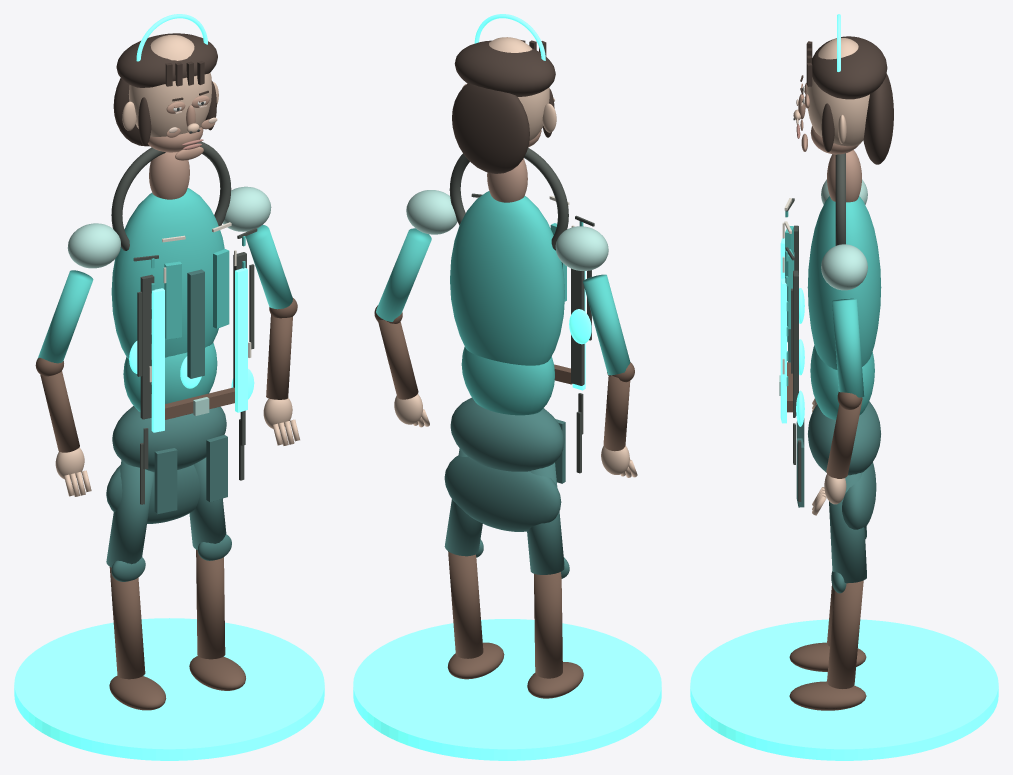
The model's file is jade-trickster.glb.
The picture shows the model from 3 angles, left to right: view 1: azimuth 30°, elevation 25°; view 2: azimuth 150°, elevation 25°; view 3: azimuth 270°, elevation 25°; orthographic projection.
Visible parts, largest first — view 1: jade-trickster_table_scale_base, jade-trickster_ribcage, jade-trickster_pelvis, jade-trickster_head, jade-trickster_left_thigh, jade-trickster_right_shin, jade-trickster_left_shin, jade-trickster_hair_cap, jade-trickster_left_upper_arm, jade-trickster_raised_collar, jade-trickster_abdomen, jade-trickster_right_upper_arm (+25 smaller); view 2: jade-trickster_table_scale_base, jade-trickster_ribcage, jade-trickster_coat_tail, jade-trickster_pelvis, jade-trickster_back_hair_mass, jade-trickster_abdomen, jade-trickster_hair_cap, jade-trickster_right_shin, jade-trickster_left_shin, jade-trickster_left_upper_arm, jade-trickster_right_upper_arm, jade-trickster_left_thigh (+15 smaller); view 3: jade-trickster_table_scale_base, jade-trickster_ribcage, jade-trickster_hair_cap, jade-trickster_right_shin, jade-trickster_head, jade-trickster_pelvis, jade-trickster_right_upper_arm, jade-trickster_right_thigh, jade-trickster_back_hair_mass, jade-trickster_abdomen, jade-trickster_right_shoulder, jade-trickster_right_boot (+8 smaller).
Boxes of the visible parts, x1,y1,x2,y2 form: jade-trickster_table_scale_base: (14, 618, 324, 760); jade-trickster_ribcage: (111, 188, 224, 359); jade-trickster_pelvis: (112, 406, 226, 472); jade-trickster_head: (128, 35, 211, 136); jade-trickster_left_thigh: (106, 460, 154, 567); jade-trickster_right_shin: (196, 549, 225, 659); jade-trickster_left_shin: (109, 567, 145, 679); jade-trickster_hair_cap: (116, 33, 217, 87); jade-trickster_left_upper_arm: (37, 270, 93, 363); jade-trickster_raised_collar: (111, 141, 231, 250); jade-trickster_abdomen: (123, 342, 217, 411); jade-trickster_right_upper_arm: (245, 225, 292, 309); jade-trickster_table_scale_base: (353, 619, 661, 760); jade-trickster_ribcage: (450, 191, 564, 365); jade-trickster_coat_tail: (444, 455, 561, 531); jade-trickster_pelvis: (450, 397, 564, 471); jade-trickster_back_hair_mass: (452, 83, 529, 173); jade-trickster_abdomen: (461, 347, 554, 415); jade-trickster_hair_cap: (454, 40, 555, 96); jade-trickster_right_shin: (448, 551, 483, 658); jade-trickster_left_shin: (534, 572, 562, 678); jade-trickster_left_upper_arm: (583, 274, 630, 375); jade-trickster_right_upper_arm: (376, 228, 431, 321); jade-trickster_left_thigh: (527, 462, 564, 574); jade-trickster_table_scale_base: (690, 619, 998, 760); jade-trickster_ribcage: (807, 196, 881, 369); jade-trickster_hair_cap: (812, 36, 887, 99); jade-trickster_right_shin: (827, 580, 863, 688); jade-trickster_head: (806, 38, 869, 146); jade-trickster_pelvis: (808, 401, 880, 475); jade-trickster_right_upper_arm: (832, 298, 864, 397); jade-trickster_right_thigh: (829, 472, 866, 583); jade-trickster_back_hair_mass: (863, 73, 893, 164); jade-trickster_abdomen: (810, 345, 874, 419); jade-trickster_right_shoulder: (821, 244, 867, 290); jade-trickster_right_boot: (789, 681, 866, 710).
Bounding box in the file's own units: 0.84 × 2.04 × 0.84.
